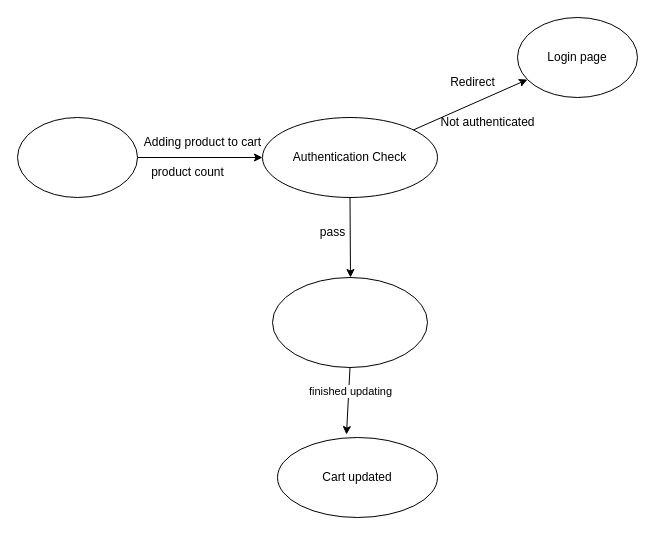
Some shapes in this 655 by 535 pixel diagram are drawn without their labels. Here are the shapes that lost their labels. From the top down, the centre of each, then its label:
the point at 77,157: Initial
the point at 350,322: Updating cart
